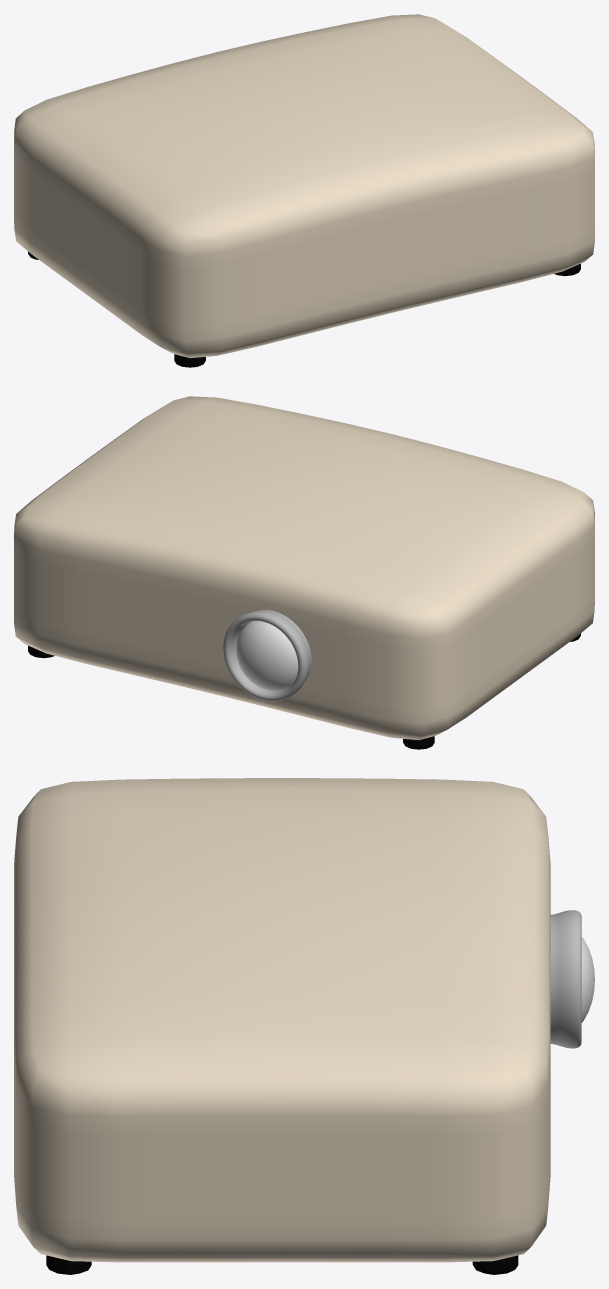
Rendered from Projector.fbx.
3 views of the same model, one above another, from view 1: azimuth 30°, elevation 25°; view 2: azimuth 150°, elevation 25°; view 3: azimuth 270°, elevation 25° (orthographic). The views are drawn at different scales.
Parts seen in each view (by area): view 1: Projector; view 2: Projector; view 3: Projector.
Part boxes in pixels (left/top/right/bottom): Projector: left=14, top=14, right=594, bottom=367; Projector: left=14, top=396, right=594, bottom=749; Projector: left=14, top=778, right=594, bottom=1274.
Size of the model in its own units: 368 by 132 by 290.
